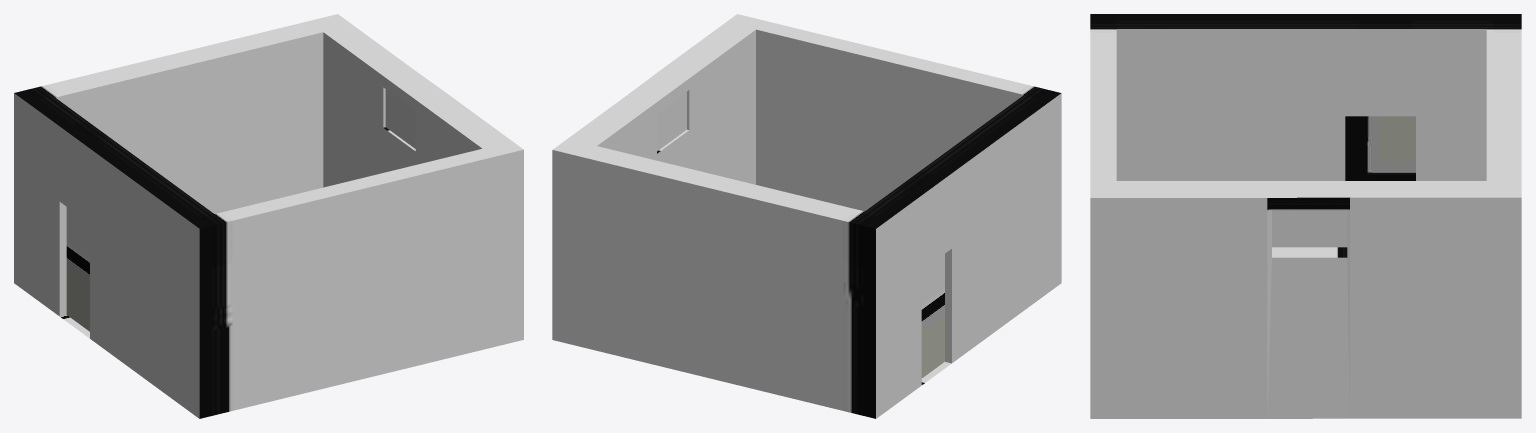
Rendered from Map.fbx.
3 views of the same model, side by side, from view 1: azimuth 30°, elevation 25°; view 2: azimuth 150°, elevation 25°; view 3: azimuth 270°, elevation 25° (orthographic). The views are drawn at different scales.
Parts seen in each view (by area): view 1: room, door, glass; view 2: room, door, glass; view 3: room, door, glass.
Part boxes in pixels (left/top/right/bottom): room: left=14, top=14, right=523, bottom=418; door: left=66, top=207, right=89, bottom=331; glass: left=385, top=89, right=415, bottom=148; room: left=552, top=14, right=1061, bottom=418; door: left=921, top=254, right=944, bottom=378; glass: left=657, top=92, right=686, bottom=151; room: left=1090, top=14, right=1521, bottom=418; door: left=1345, top=116, right=1415, bottom=180; glass: left=1272, top=210, right=1347, bottom=247.
Bounding box in the file's own units: 892 × 500 × 883.
